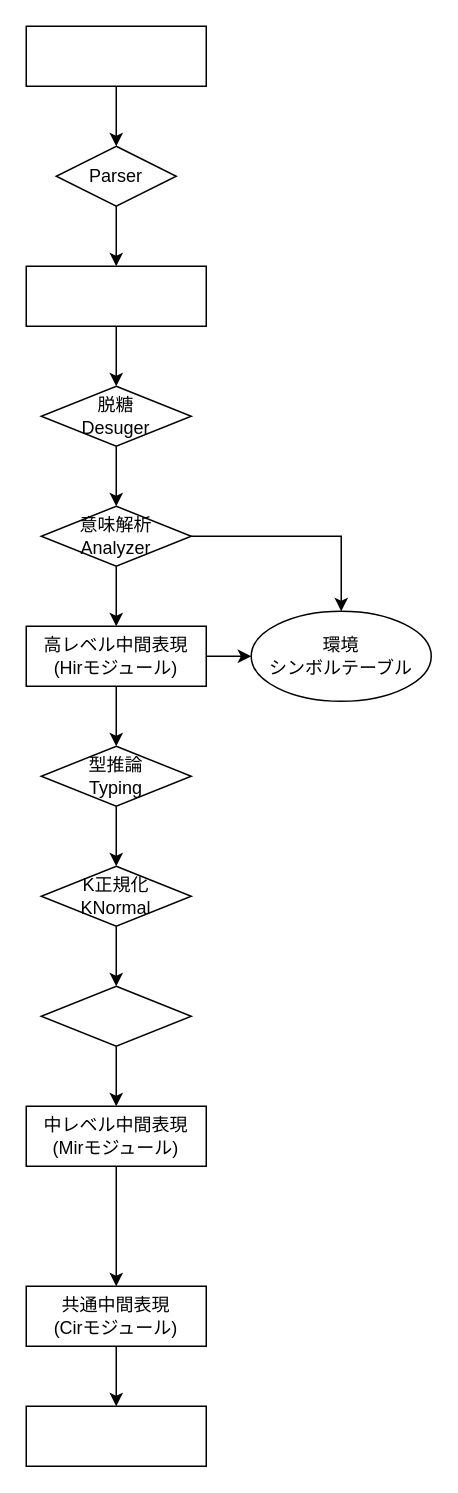
The diagram is 458 pixels wide and 1493 high, and some of its shapes have lost their labels. Each missing label, with the box of its shape:
.NET Binary: (25, 1405, 206, 1466)
ソースコード: (25, 25, 206, 86)
フレーム割付け Frame: (40, 985, 191, 1046)
抽象構文木 (Astモジュール): (25, 265, 206, 326)
